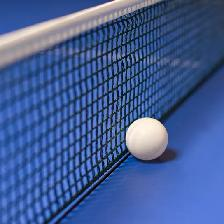WhiteBall: (124, 117, 167, 160)
